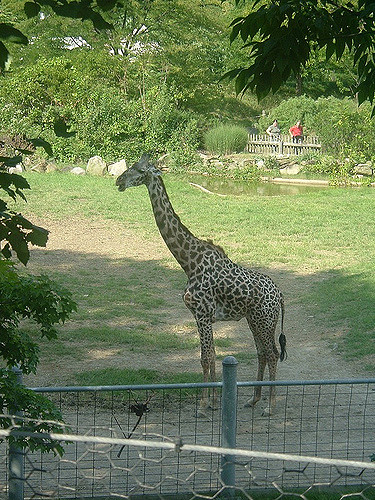giraffe: (115, 157, 318, 407)
